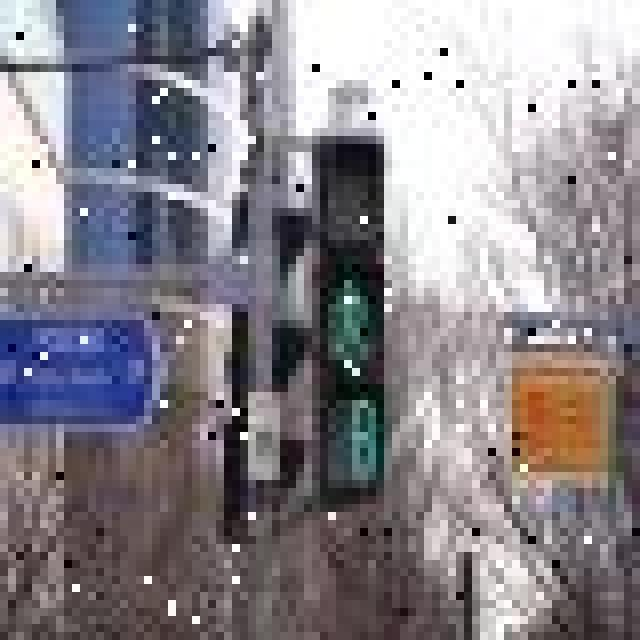greenlight: (316, 146, 384, 381)
